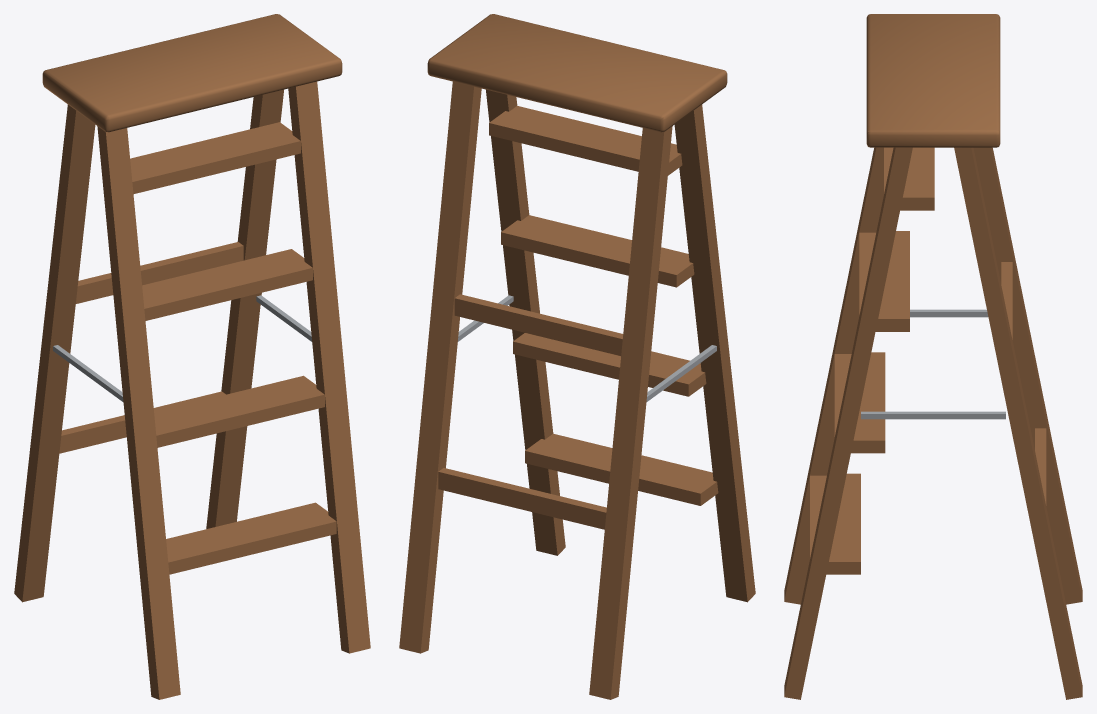
The model's file is StepLadderL01.glb.
3 views of the same model, side by side, from view 1: azimuth 30°, elevation 25°; view 2: azimuth 150°, elevation 25°; view 3: azimuth 270°, elevation 25° (orthographic). The views are drawn at different scales.
Visible parts, largest first — view 1: Body_Wood, Body_Spreader; view 2: Body_Wood, Body_Spreader; view 3: Body_Wood, Body_Spreader.
Part boxes in pixels (box(x1,y1,x2,y2)): Body_Wood: box(14, 14, 370, 699); Body_Spreader: box(53, 295, 311, 402); Body_Wood: box(399, 14, 755, 699); Body_Spreader: box(458, 295, 716, 402); Body_Wood: box(784, 14, 1082, 699); Body_Spreader: box(861, 309, 1005, 419).
Bounding box in the file's own units: 2 × 4.5 × 2.12.
